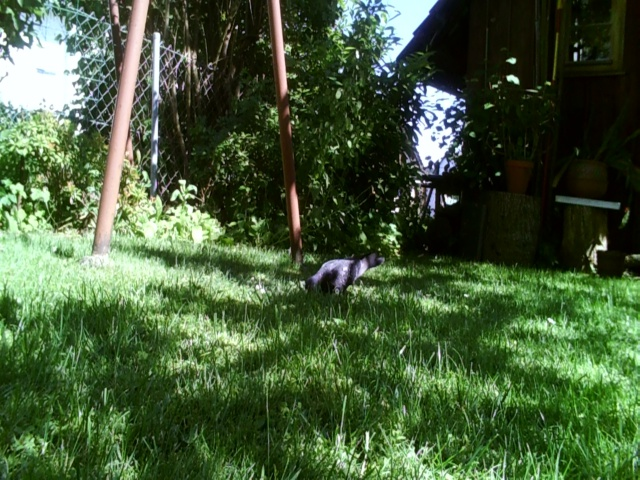Pigeon: (294, 250, 390, 298)
